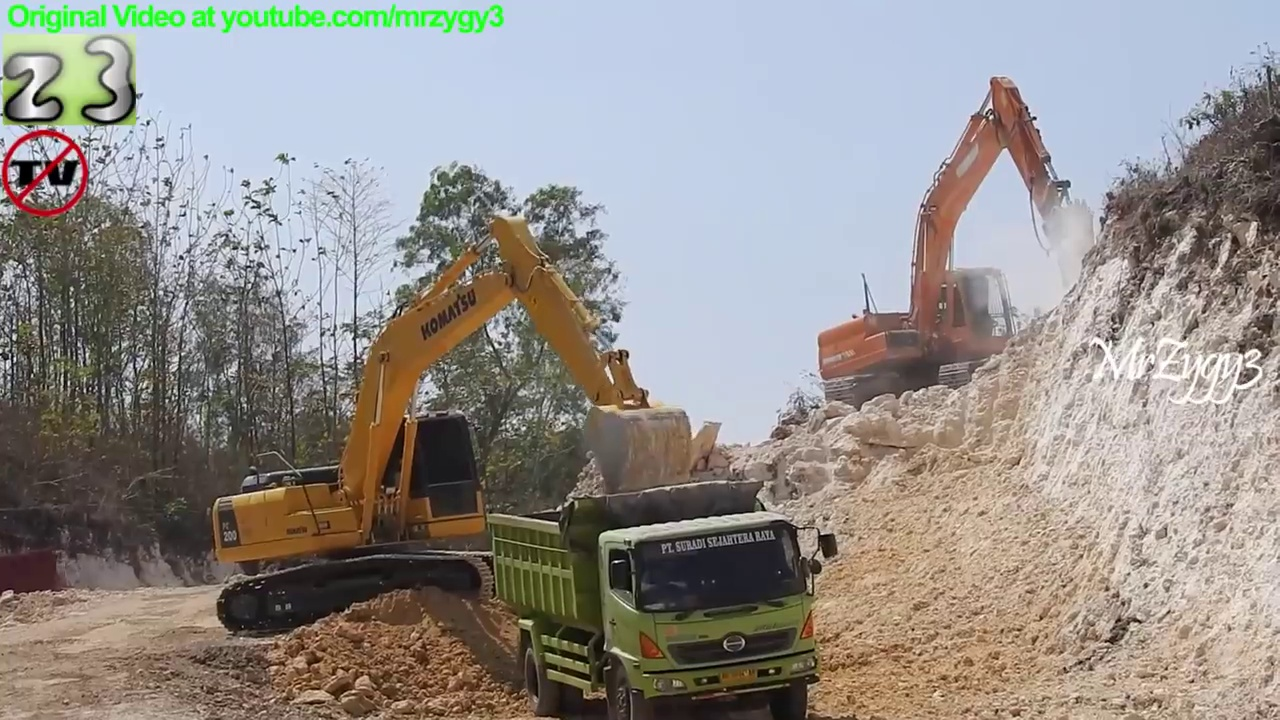excavator: (206, 212, 707, 643), (812, 69, 1106, 420)
truck: (485, 476, 844, 720)
